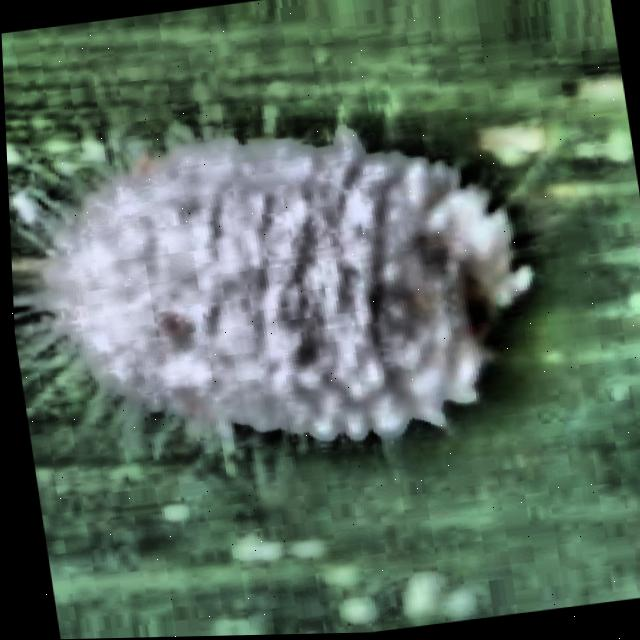Mealy-bug: (2, 45, 630, 532)
